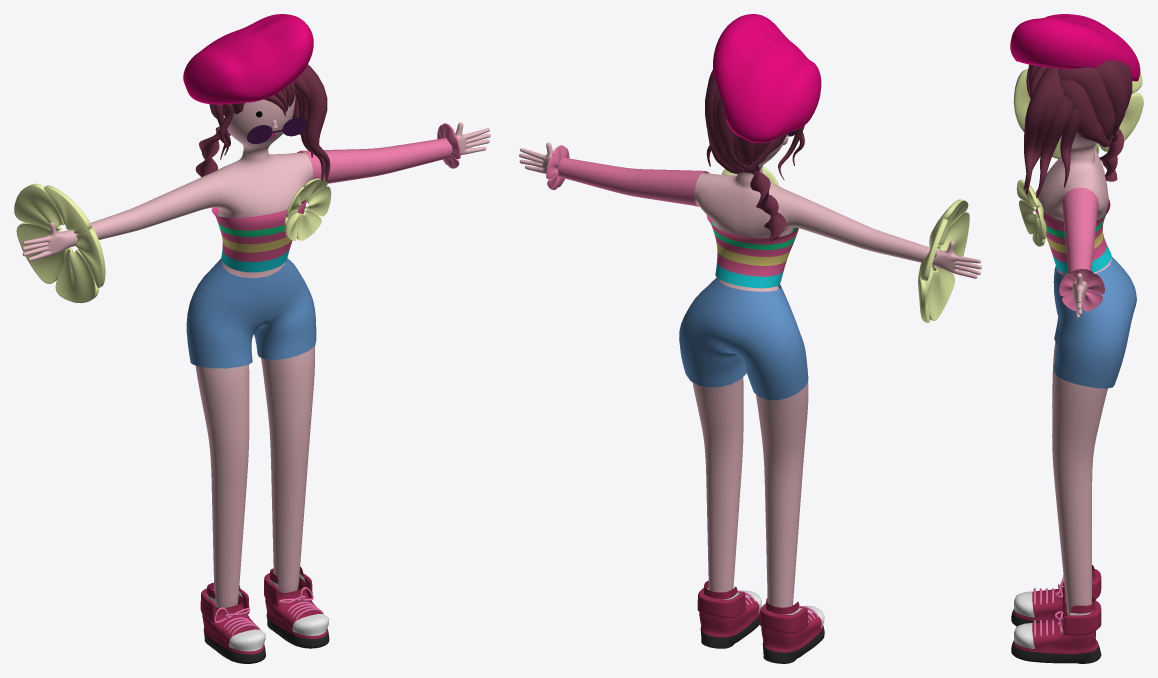
The model's file is flowergurl.glb.
3 views of the same model, side by side, from view 1: azimuth 30°, elevation 25°; view 2: azimuth 150°, elevation 25°; view 3: azimuth 270°, elevation 25° (orthographic). The views are drawn at different scales.
Parts seen in each view (by area): view 1: Cube.001, Cube.004, Sphere, Plane.006, BézierCurve.003, Plane.005, Cube.006, Cube.014, Cube.015, Plane.002, Circle.002; view 2: Cube.001, Cube.004, Sphere, BézierCurve.003, Plane.005, Cube.006, Plane.006, Cube.014, Cube.015; view 3: Cube.001, BézierCurve.003, Cube.004, Sphere, Cube.014, Plane.005, Cube.015, Plane.006, Cube.006, Plane.002.
Part boxes in pixels (x1,y1,x2,y2): Cube.001: (22,94,490,607); Cube.004: (186,258,316,368); Sphere: (183,14,313,104); Plane.006: (14,183,105,303); BézierCurve.003: (195,64,330,180); Plane.005: (297,123,460,183); Cube.006: (211,200,306,272); Cube.014: (264,566,329,648); Cube.015: (200,582,265,663); Plane.002: (284,178,331,240); Circle.002: (247,117,307,143); Cube.001: (519,142,981,607); Cube.004: (679,277,808,400); Sphere: (713,14,821,142); BézierCurve.003: (705,70,804,240); Plane.005: (546,145,709,206); Cube.006: (706,215,798,288); Plane.006: (918,199,969,322); Cube.014: (697,580,761,648); Cube.015: (760,598,824,663); Cube.001: (1037,132,1111,615); BézierCurve.003: (1024,59,1132,197); Cube.004: (1053,256,1136,388); Sphere: (1010,14,1140,81); Cube.014: (1011,596,1101,663); Plane.005: (1059,187,1104,311); Cube.015: (1011,565,1101,627); Plane.006: (1013,64,1143,158); Cube.006: (1035,188,1111,273); Plane.002: (1016,179,1046,246).
Size of the model in its own units: 3.77 by 4.79 by 0.9143.
